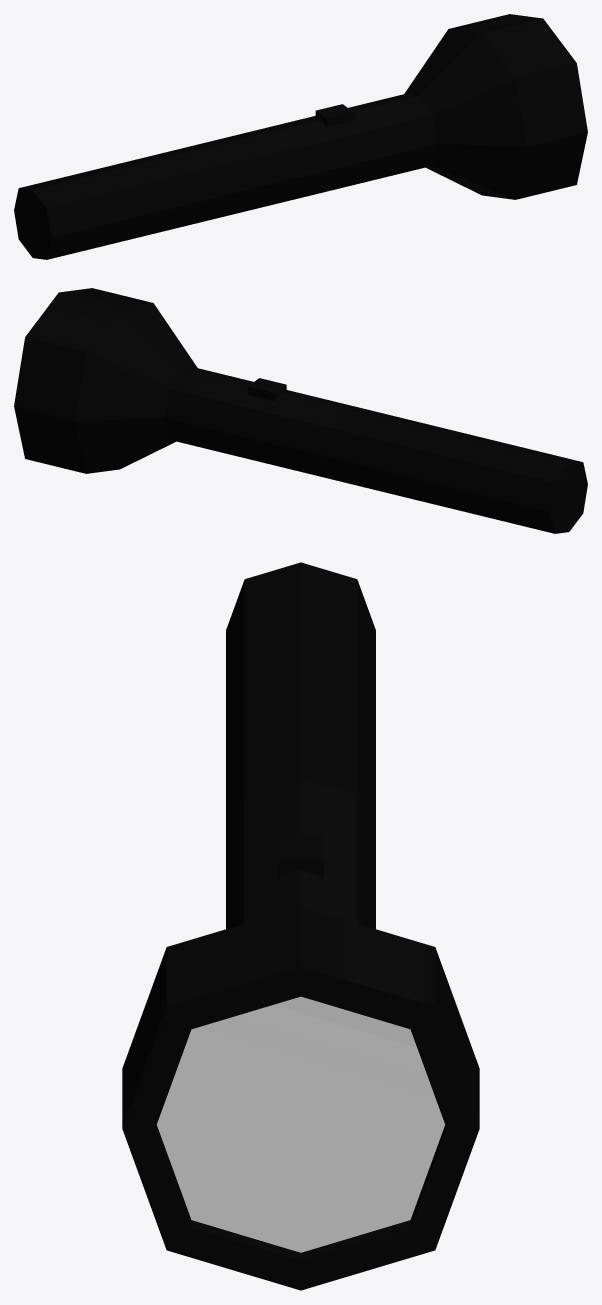
The picture shows the model from 3 angles, top to bottom: view 1: azimuth 30°, elevation 25°; view 2: azimuth 150°, elevation 25°; view 3: azimuth 270°, elevation 25°; orthographic projection. The views are drawn at different scales.
Visible parts, largest first — view 1: Cube.001_Cube; view 2: Cube.001_Cube; view 3: Cube.001_Cube.
Boxes of the visible parts, left/top/right/bottom form: Cube.001_Cube: left=14, top=14, right=587, bottom=259; Cube.001_Cube: left=14, top=288, right=587, bottom=533; Cube.001_Cube: left=122, top=562, right=479, bottom=1290.
Bounding box in the file's own units: 3.22 × 0.9758 × 0.9758.
Materials: 1 (1 with a texture image).
